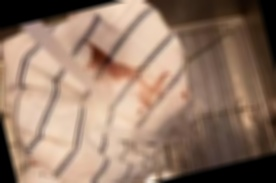wine: (77, 34, 139, 90), (127, 71, 180, 106), (175, 86, 192, 103)
